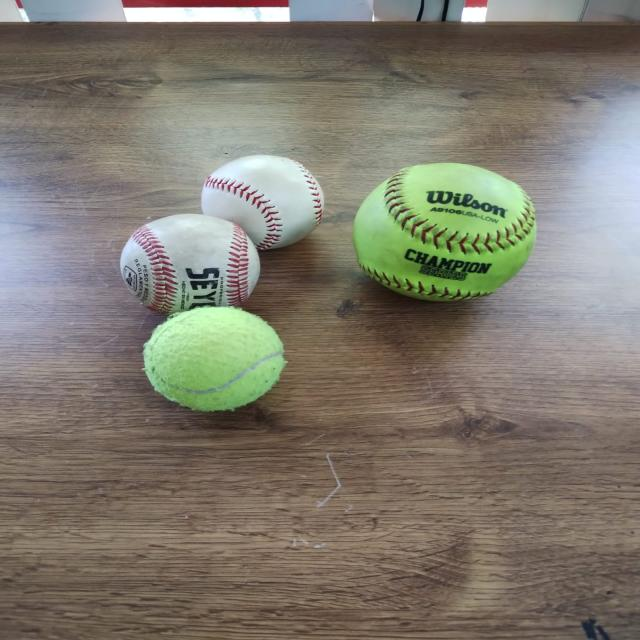beisbol ball: (120, 214, 261, 315), (201, 155, 325, 248)
softball ball: (350, 162, 540, 301)
tenis ball: (140, 305, 286, 410)
